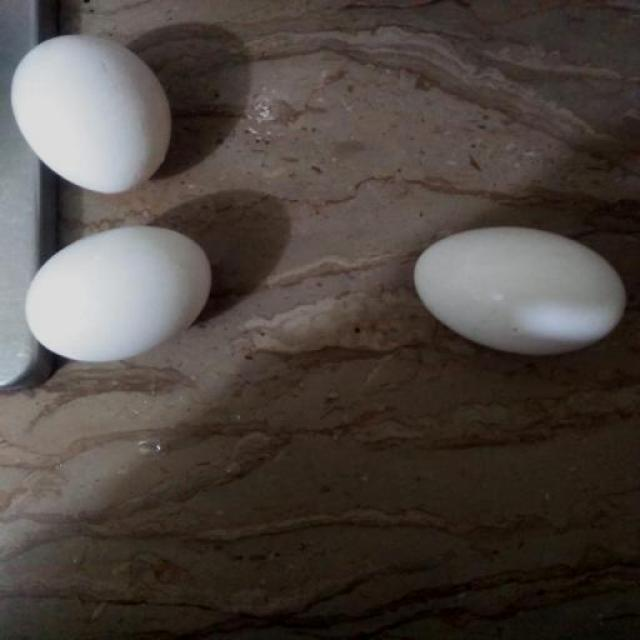telur: (414, 224, 628, 356), (10, 33, 172, 192), (28, 226, 210, 362)
